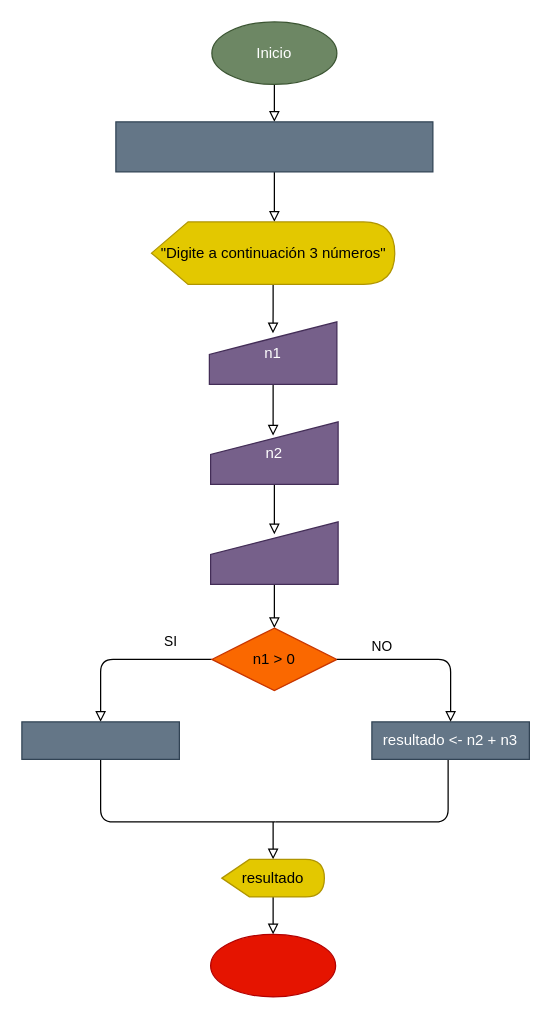
This 551x1019 diagram has some shape labels left out. The shapes that lost their labels are listed below. From the top down, each one's centre as x and y in pixels, then its label:
At point 274,146: "Definir n1, n2, n3, resultado Como ENTERO".
At point 273,552: "n3".
At point 100,740: "resultado <- n2 * n3".
At point 272,965: "Fin".
